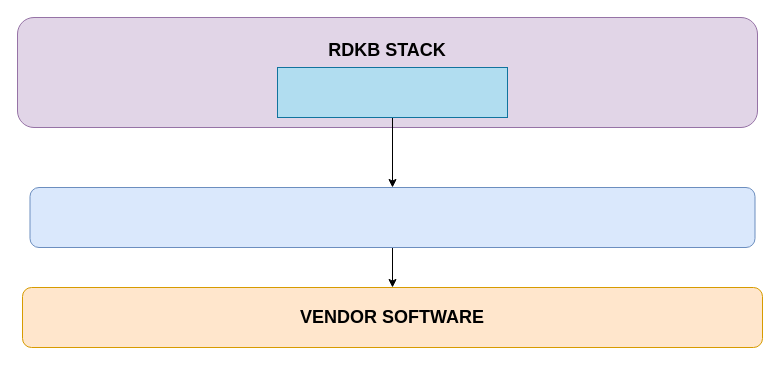
Some shapes in this 780 by 365 pixel diagram are drawn without their labels. The shapes that lost their labels are listed below. From the top down, each one's box as (x1, y1, x2, y2) in pixels, then its label:
(276, 66, 508, 118): DHCP6C
(29, 186, 755, 248): DHCP6C HAL
